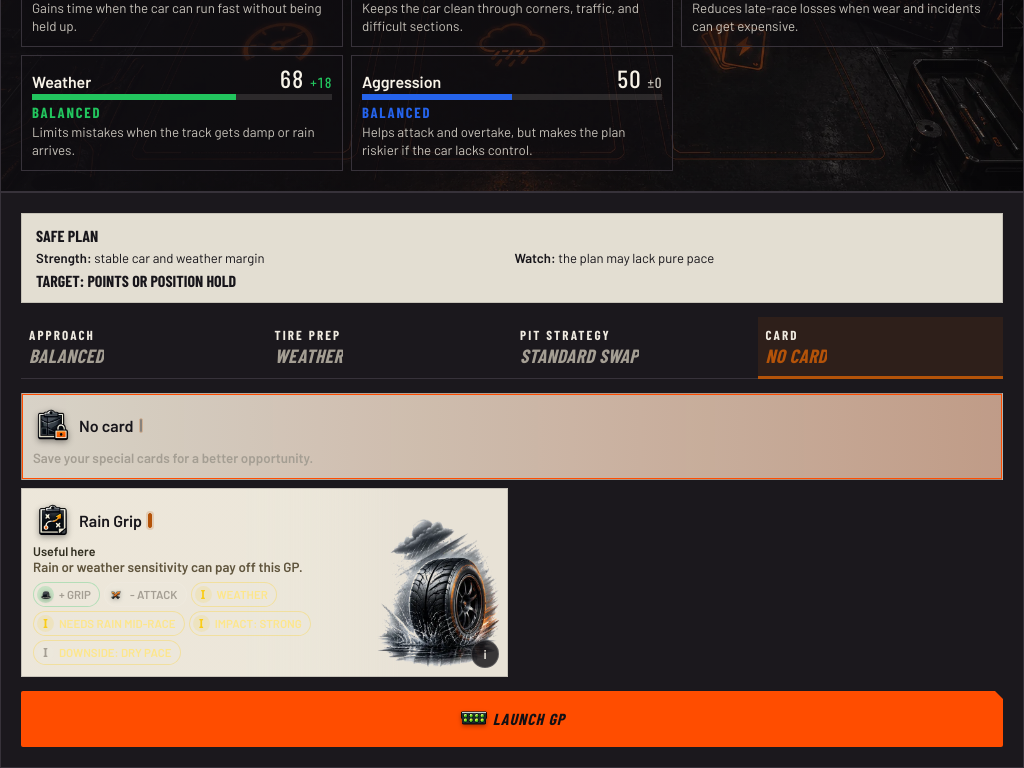
Scenario: DirectivePanel › ignores the old auto-dismissed card help preference
(page scrolled)
Click the button with aria-label "Card: Rain Grip" at (264, 583), box [21, 488, 508, 677]
(page scrolled)
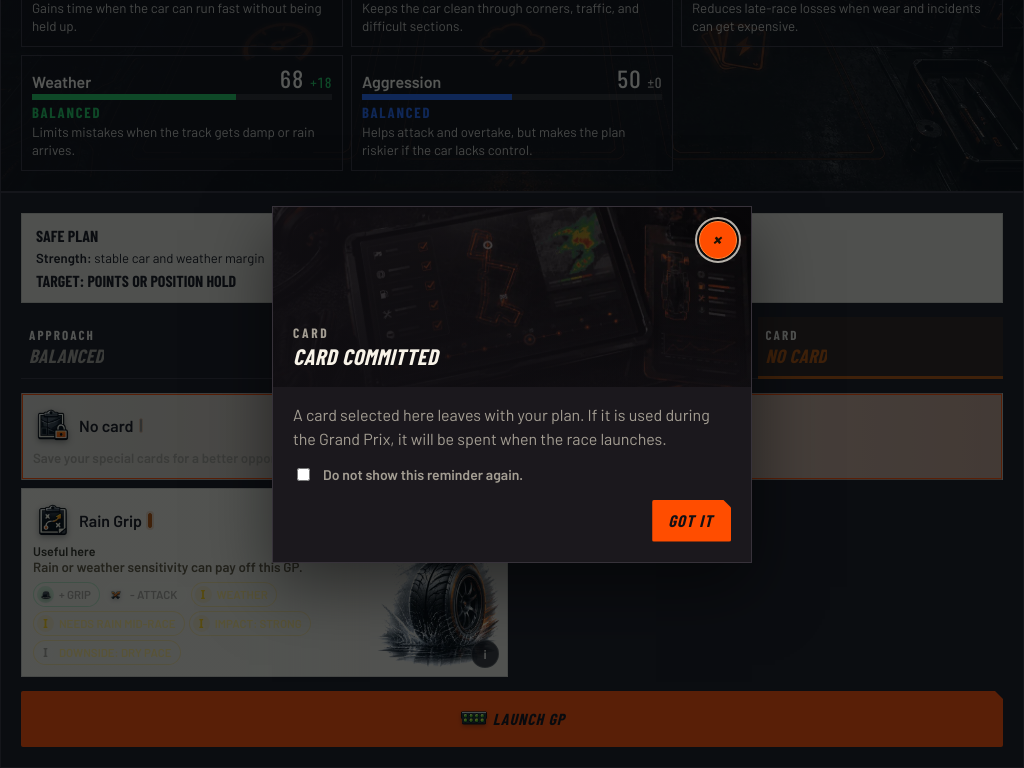
Expected: the dialog "Card committed" is shown, [272, 206, 752, 562]
